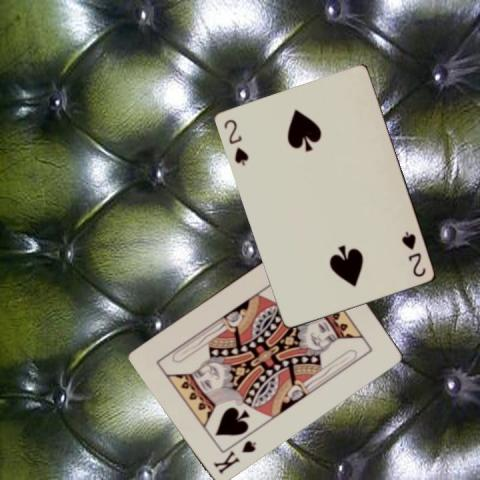2s: (221, 116, 251, 167), (399, 228, 428, 279)
Ks: (210, 436, 258, 474)
